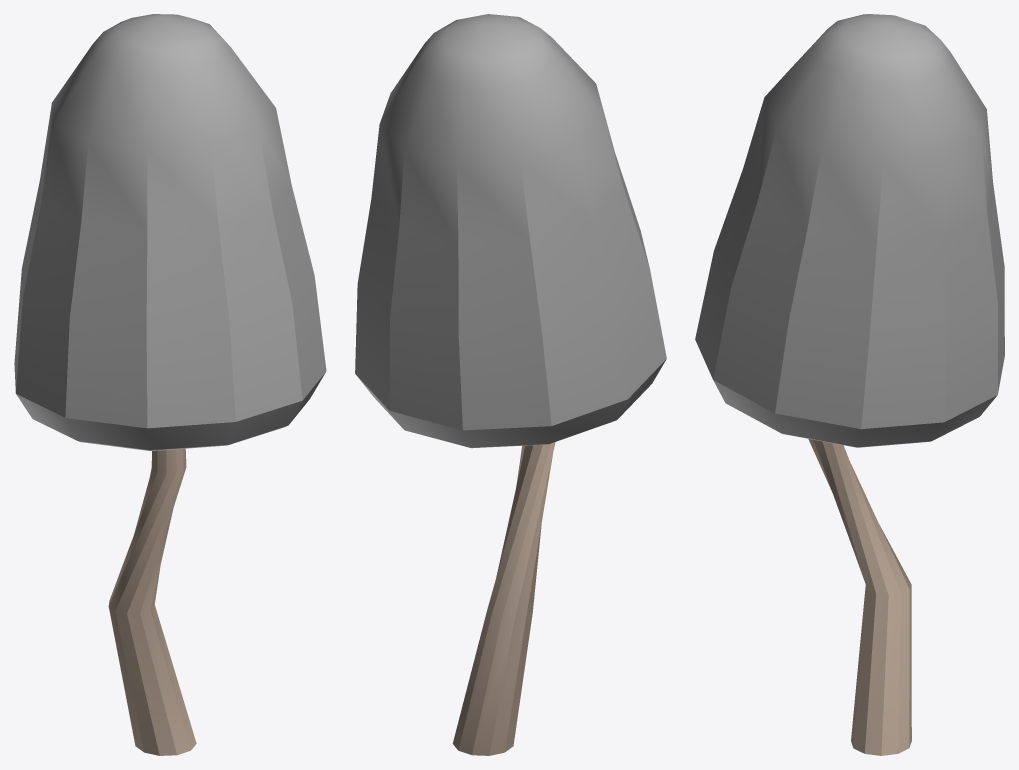
File: Tall_Mushroom.fbx
3 views of the same model, side by side, from view 1: azimuth 30°, elevation 25°; view 2: azimuth 150°, elevation 25°; view 3: azimuth 270°, elevation 25° (orthographic).
Visible parts, largest first — view 1: pasted__TallMushroom; view 2: pasted__TallMushroom; view 3: pasted__TallMushroom.
Part boxes in pixels (box(x1,y1,x2,y2)): pasted__TallMushroom: box(14, 14, 326, 755); pasted__TallMushroom: box(355, 14, 666, 755); pasted__TallMushroom: box(695, 14, 1004, 755).
Bounding box in the file's own units: 1.33 × 3.4 × 1.33.
